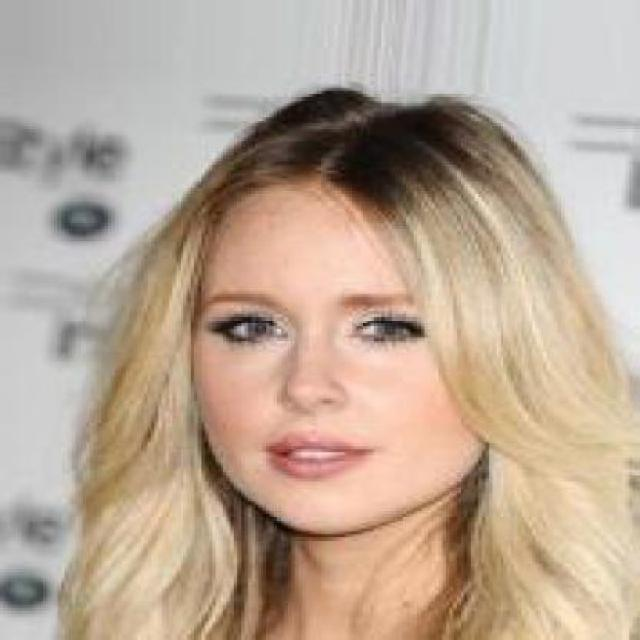closed-mouth: (260, 433, 378, 481)
